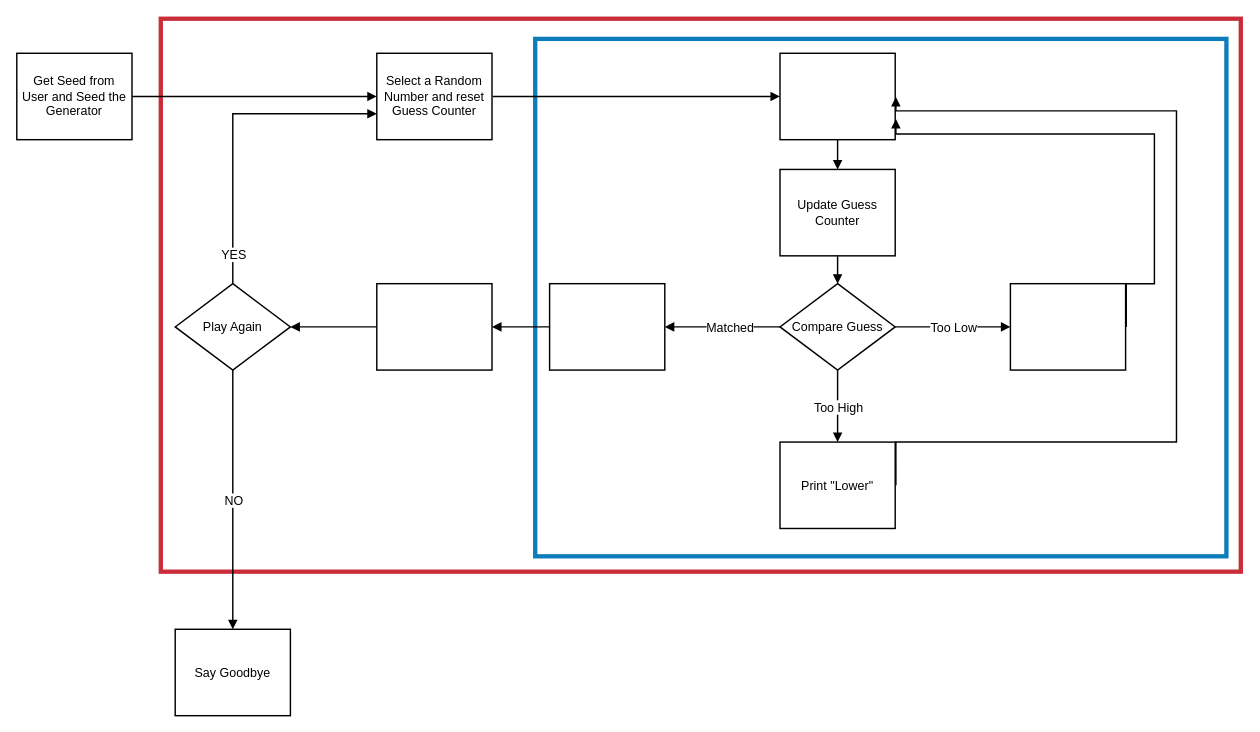
Image size: 1260x732. Some labels were removed from this diagram. The shapes that lost their labels are listed below. From the top down, each one's centre as x and y in pixels, then its label:
(x=837, y=96): Get a Guess from the User
(x=434, y=326): Ask User if they want to Play Again
(x=606, y=326): Print "Congrats!" and display Guess Counter
(x=1067, y=326): Print "Higher"
